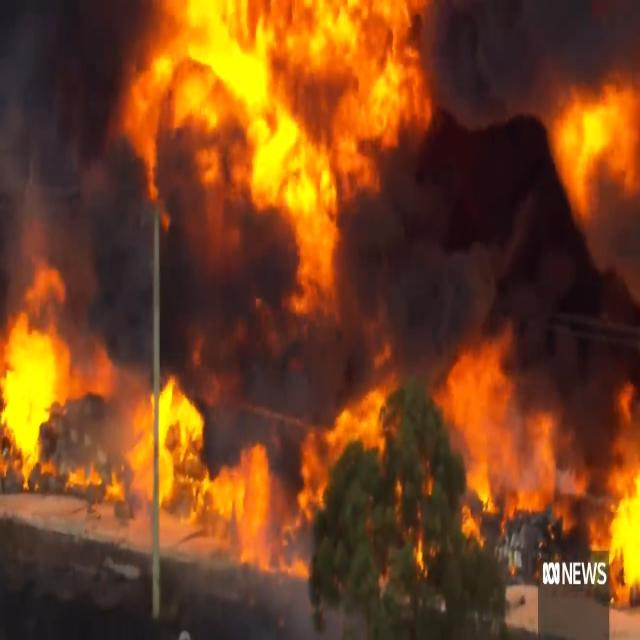fire: (0, 0, 408, 568)
